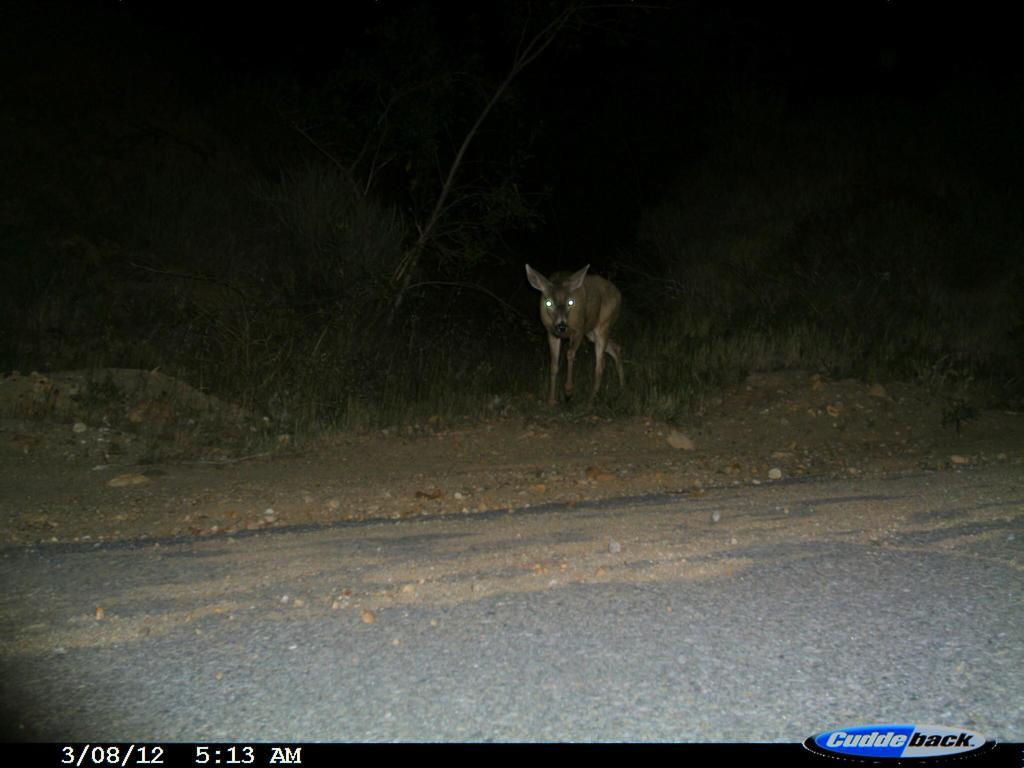deer: (520, 255, 644, 418)
